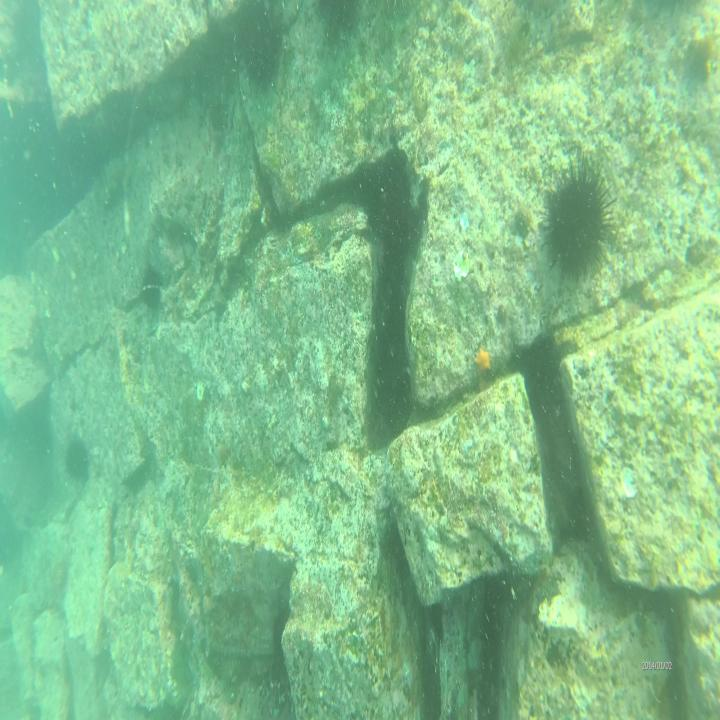echinus: (542, 155, 614, 282), (240, 12, 283, 92), (64, 436, 93, 486), (138, 262, 164, 313)
starfish: (474, 345, 492, 376)
